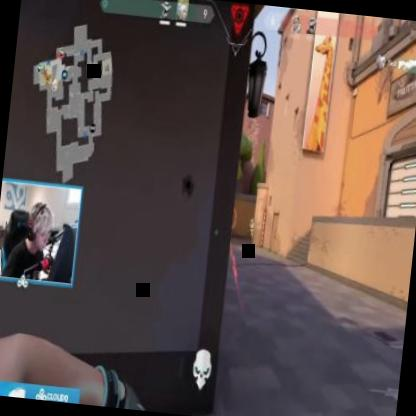enemy: (247, 218, 254, 242)
enemy_head: (250, 218, 254, 223)
